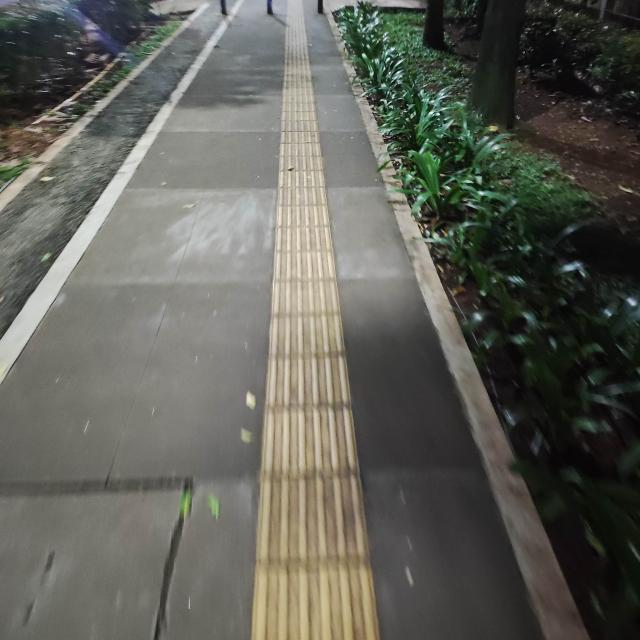lurus: (254, 48, 356, 640)
